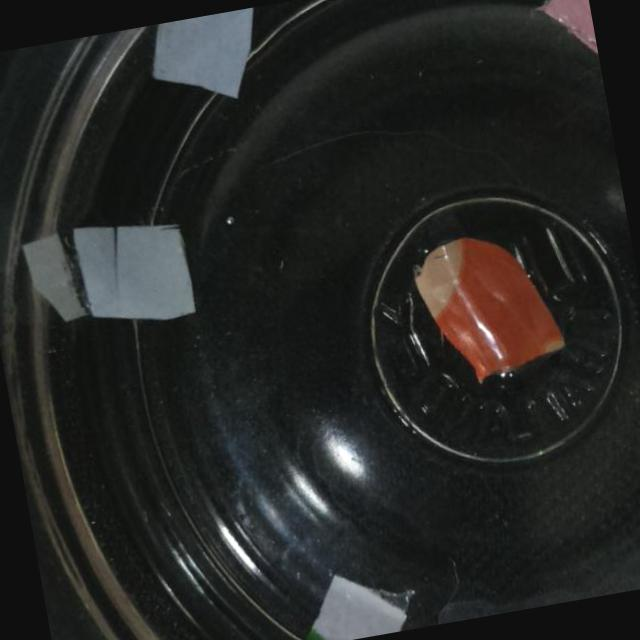fiber: (407, 216, 569, 393), (21, 206, 198, 342), (145, 10, 266, 111), (291, 555, 427, 640), (533, 0, 599, 73)
